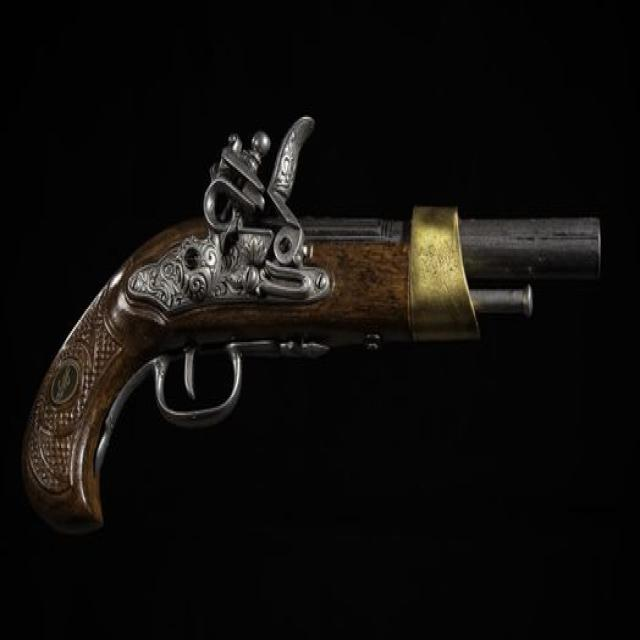pistol: (22, 116, 604, 538)
